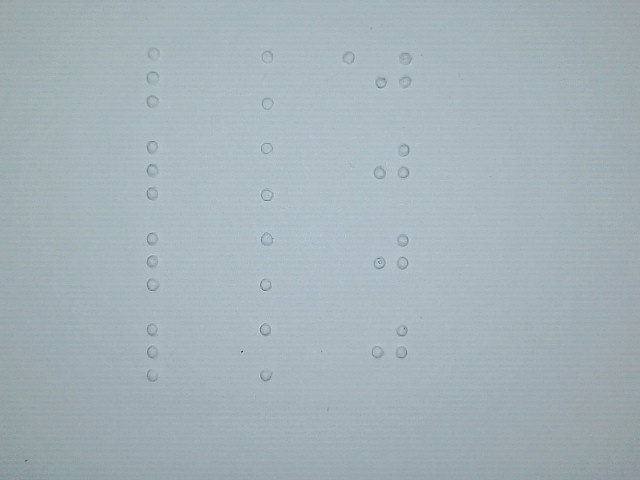J: (371, 42, 415, 107), (370, 133, 414, 198), (368, 223, 412, 288), (366, 315, 410, 380)
K: (251, 47, 298, 113), (252, 138, 299, 204), (251, 228, 298, 294), (251, 317, 298, 383)
L: (137, 45, 184, 111), (139, 136, 186, 202), (137, 229, 184, 295), (137, 319, 184, 385)
